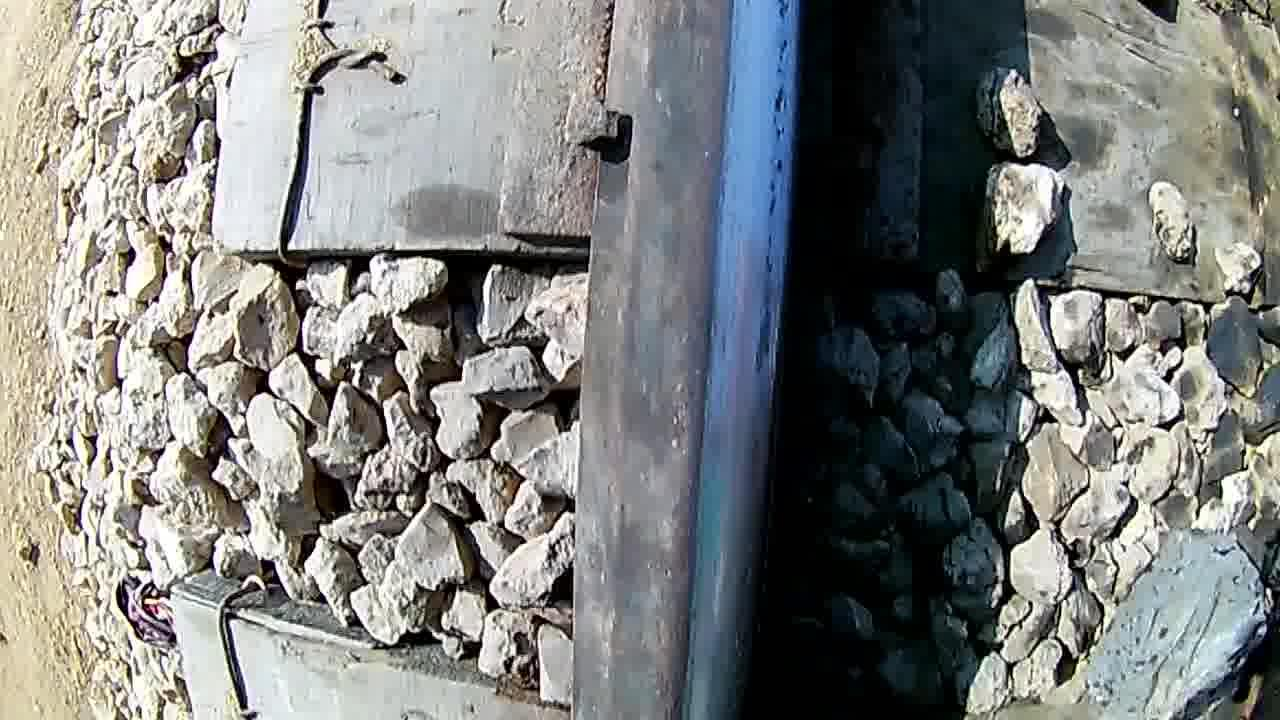crack: (630, 0, 804, 720)
